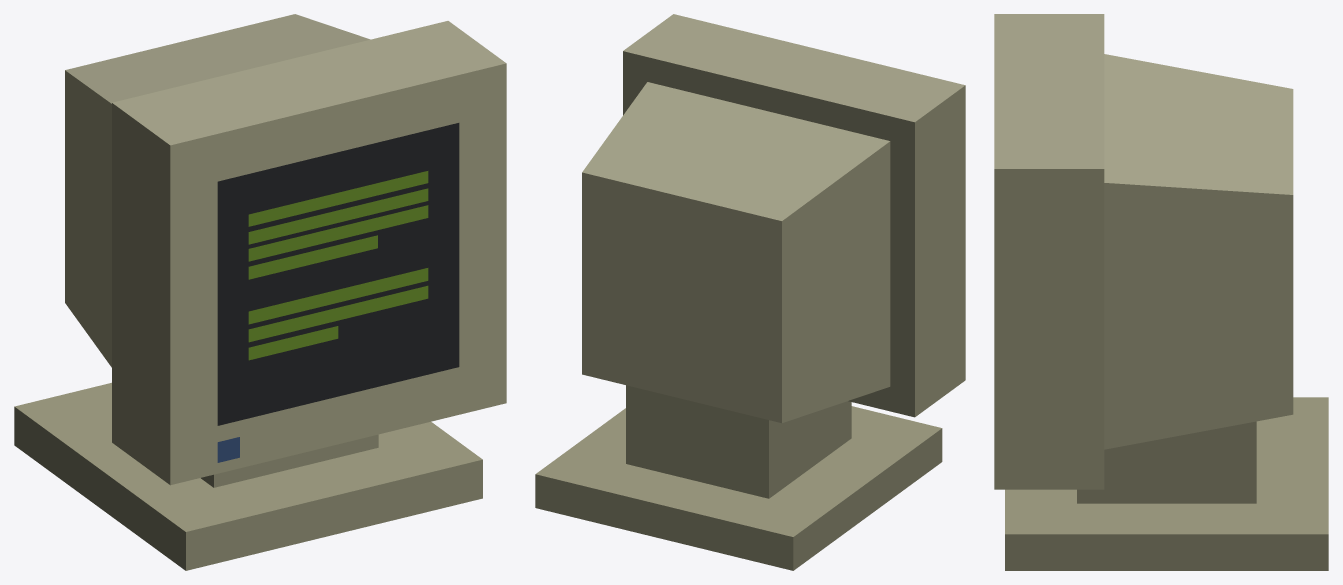
File: SO_Monitor_03.fbx
3 views of the same model, side by side, from view 1: azimuth 30°, elevation 25°; view 2: azimuth 150°, elevation 25°; view 3: azimuth 270°, elevation 25° (orthographic). The views are drawn at different scales.
Parts seen in each view (by area): view 1: SO_Monitor_03; view 2: SO_Monitor_03; view 3: SO_Monitor_03.
Boxes of the visible parts, box(x1,y1,x2,y2) form: SO_Monitor_03: box(14, 14, 506, 570); SO_Monitor_03: box(535, 14, 965, 570); SO_Monitor_03: box(994, 14, 1328, 570).
Bounding box in the file's own units: 0.9122 × 1.13 × 0.8322.
